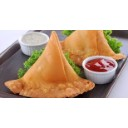samosa: (6, 31, 93, 94)
